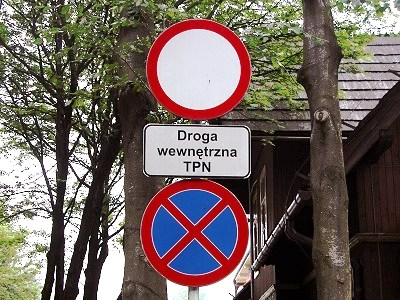no_entry_sign: (145, 18, 252, 120)
